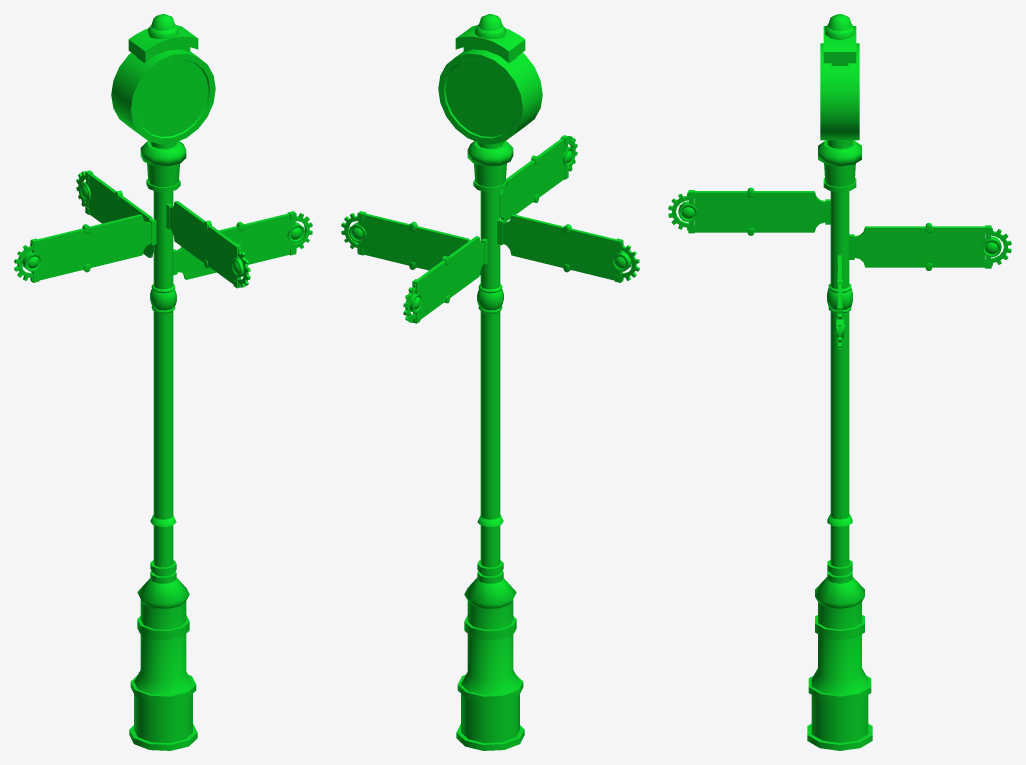
File: SM_town_directionsign.fbx
3 renders of one model, left to right at view 1: azimuth 30°, elevation 25°; view 2: azimuth 150°, elevation 25°; view 3: azimuth 270°, elevation 25°, orthographic.
Parts seen in each view (by area): view 1: directionsign; view 2: directionsign; view 3: directionsign.
Boxes of the visible parts, x1,y1,x2,y2 form: directionsign: [14, 14, 312, 750]; directionsign: [341, 14, 639, 750]; directionsign: [668, 14, 1011, 750].
Bounding box in the file's own units: 104 × 241 × 104.
